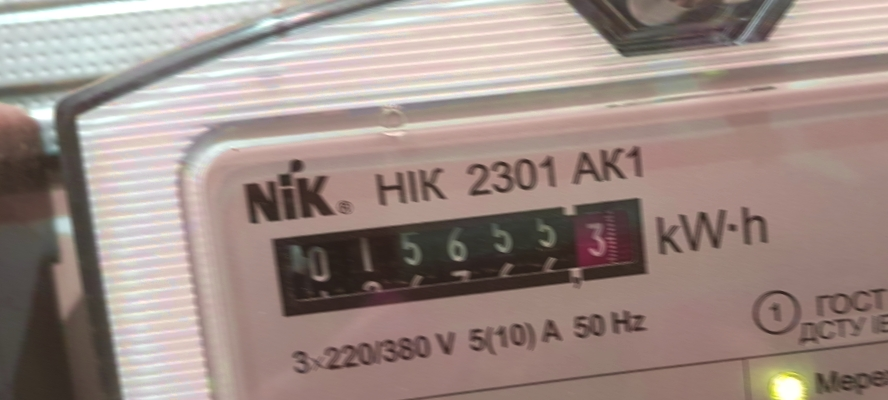0: (302, 241, 332, 285)
1: (354, 235, 377, 276)
3: (583, 220, 607, 258)
5: (396, 230, 424, 268), (488, 221, 515, 255), (535, 216, 557, 250)
6: (442, 226, 469, 264)
screen: (256, 177, 664, 335)
